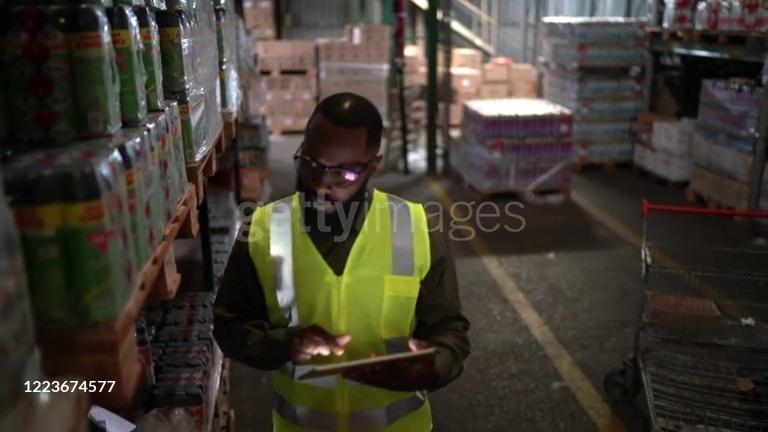person: (214, 91, 472, 431)
